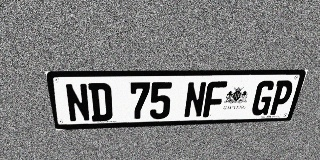5: (150, 82, 172, 119)
7: (129, 82, 150, 120)
D: (88, 83, 113, 121)
F: (203, 81, 227, 117)
G: (250, 81, 277, 116)
N: (64, 83, 91, 122), (183, 81, 207, 118)
P: (268, 80, 295, 115)
